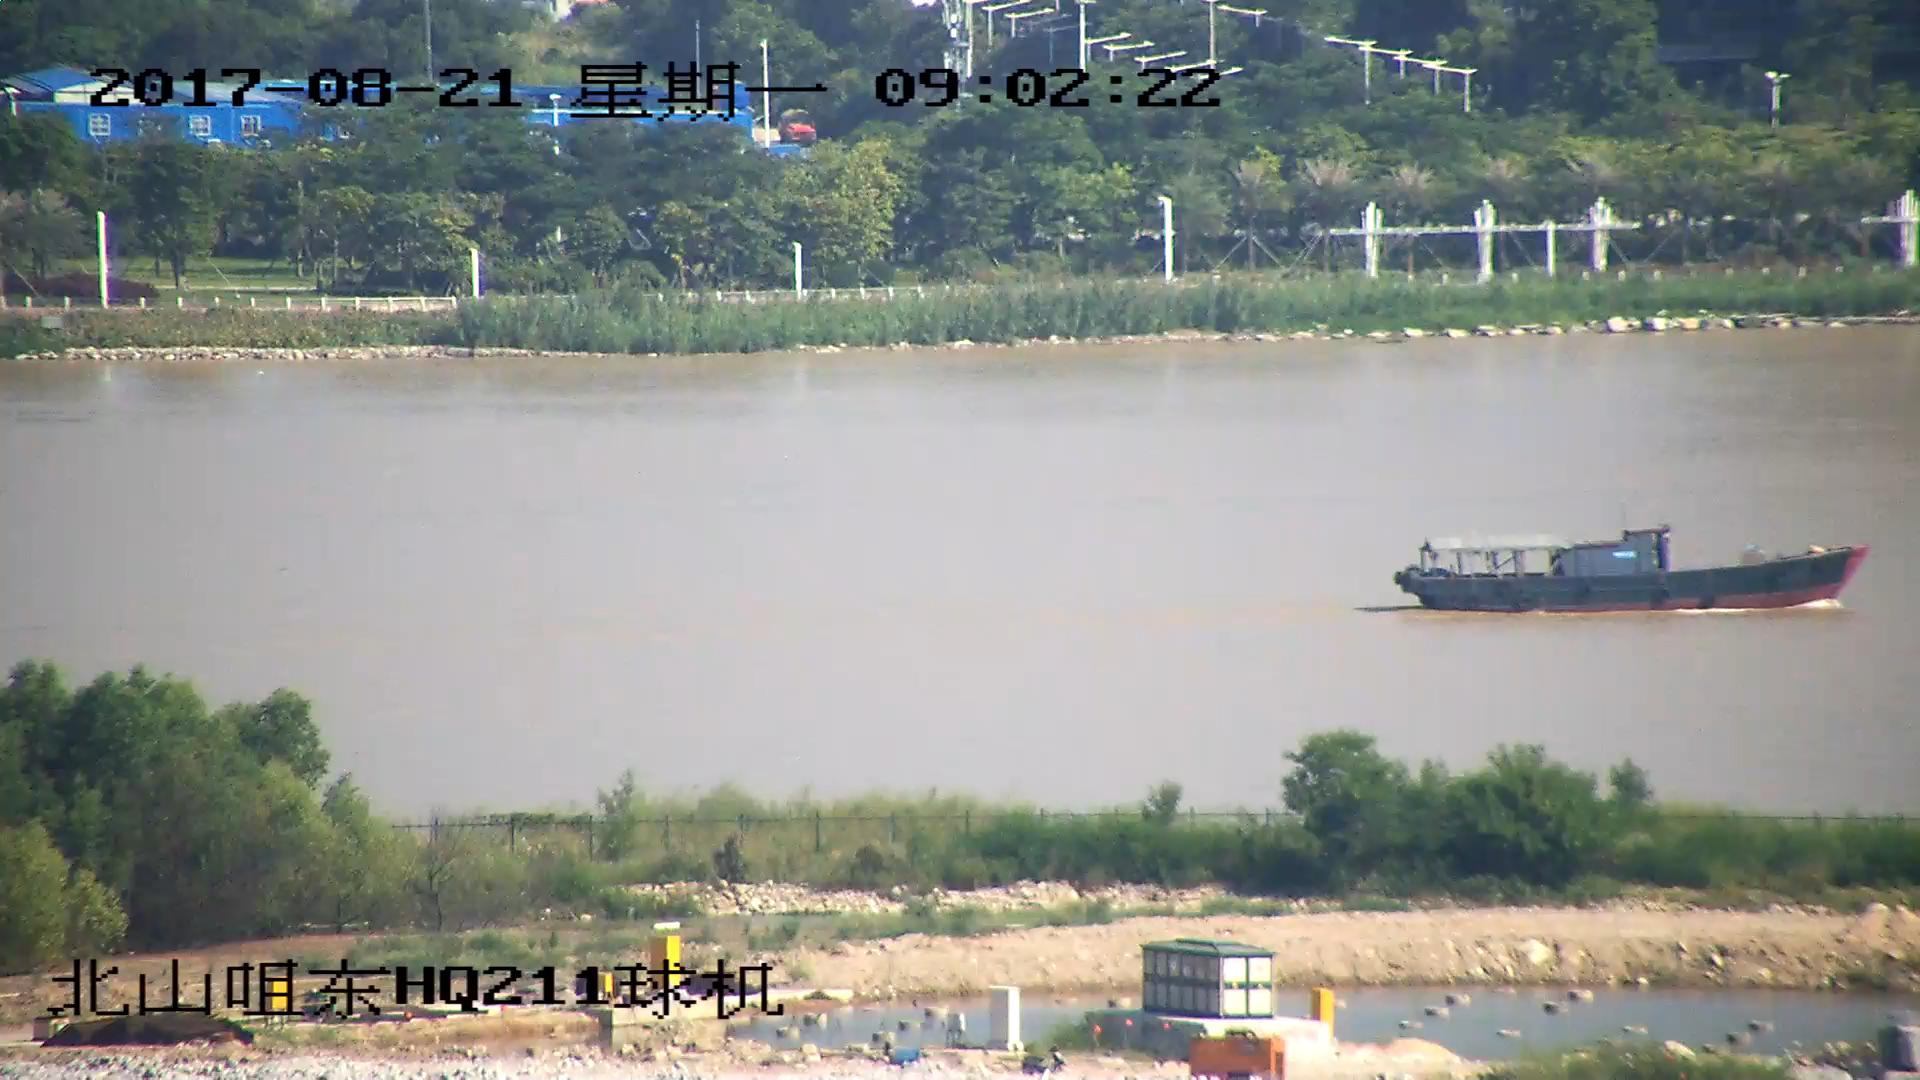fishing boat: (1399, 534, 1868, 610)
